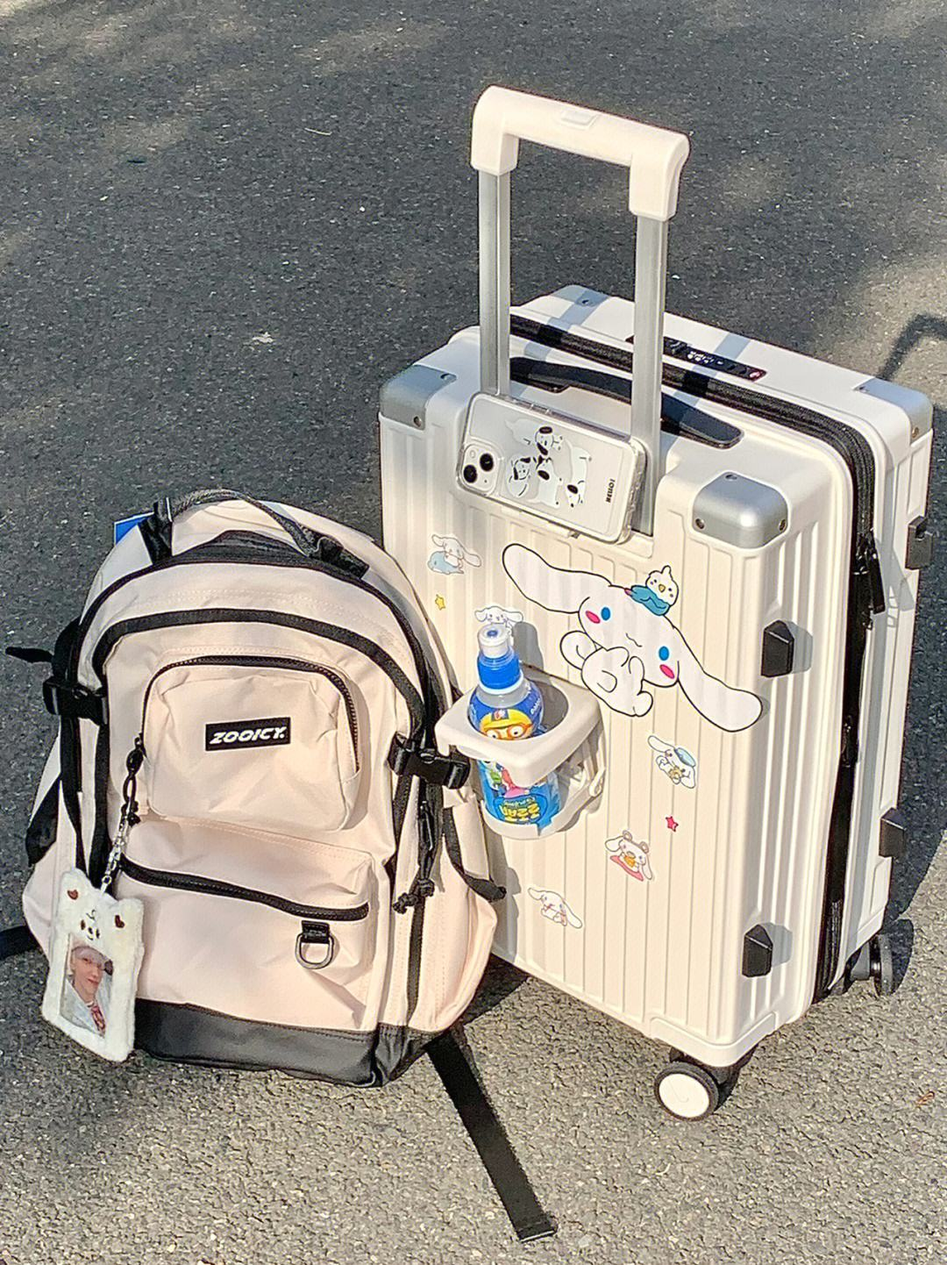box: (377, 282, 932, 1076)
handle: (509, 356, 744, 449)
lock: (627, 331, 766, 382)
wheel: (654, 1046, 737, 1119), (831, 932, 894, 1001)
